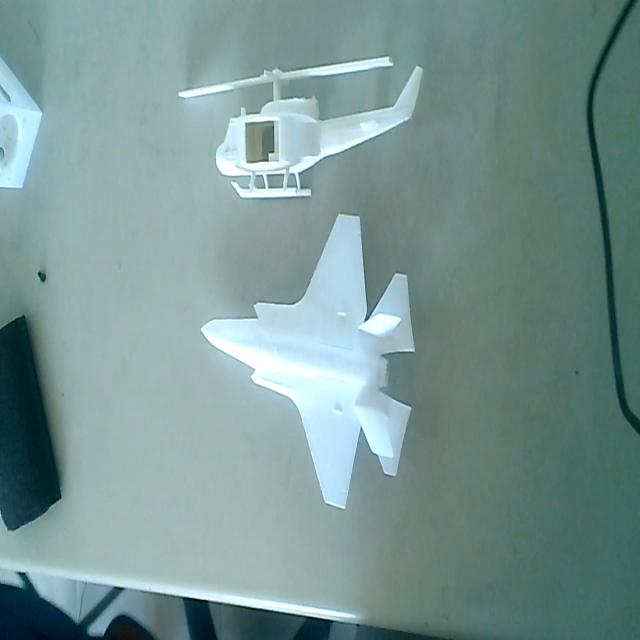Helicopter: (173, 52, 427, 206)
Jet: (204, 210, 421, 518)
